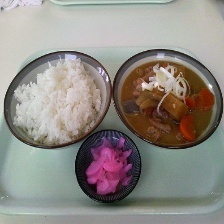rice: (10, 51, 105, 146)
